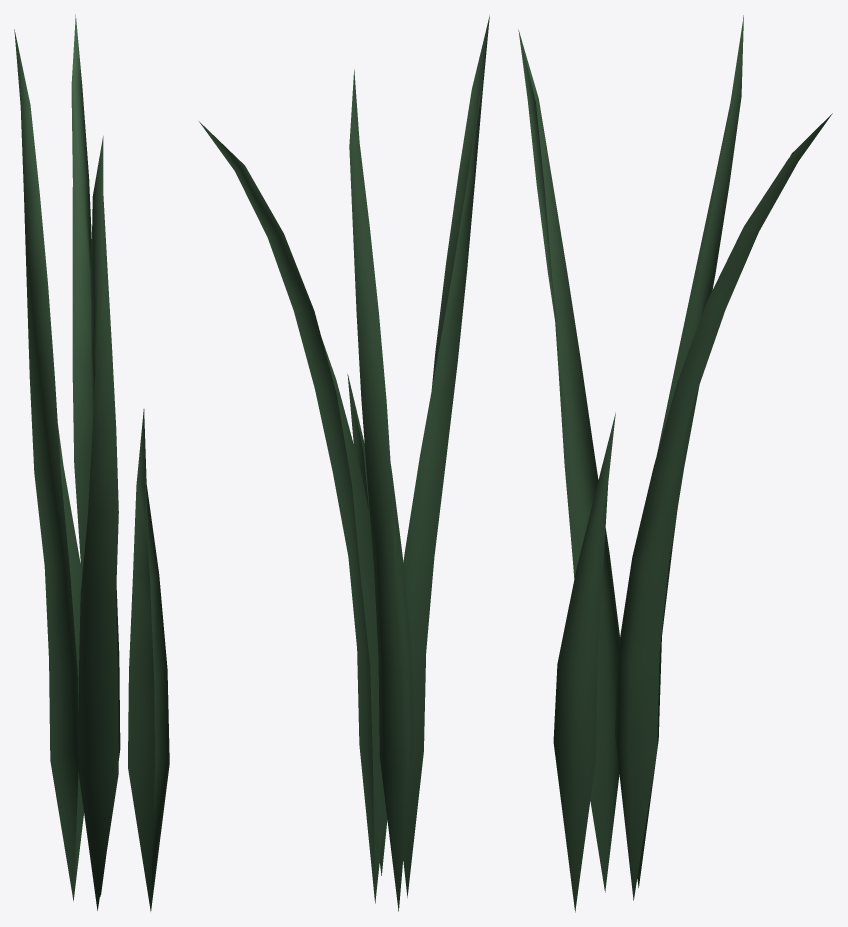
Rendered from trees-grasses-grass-blades_v16.glb.
3 renders of one model, left to right at view 1: azimuth 30°, elevation 25°; view 2: azimuth 150°, elevation 25°; view 3: azimuth 270°, elevation 25°, orthographic. The views are drawn at different scales.
Parts seen in each view (by area): view 1: Grass Blades_v16; view 2: Grass Blades_v16; view 3: Grass Blades_v16.
Part boxes in pixels (left/top/right/bottom): Grass Blades_v16: left=14, top=14, right=169, bottom=911; Grass Blades_v16: left=199, top=15, right=489, bottom=911; Grass Blades_v16: left=518, top=15, right=832, bottom=912.
Bounding box in the file's own units: 0.0468 × 0.3 × 0.0984.
